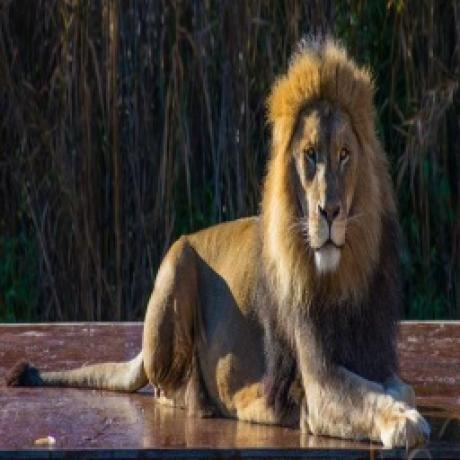Lion: (8, 34, 434, 448)
